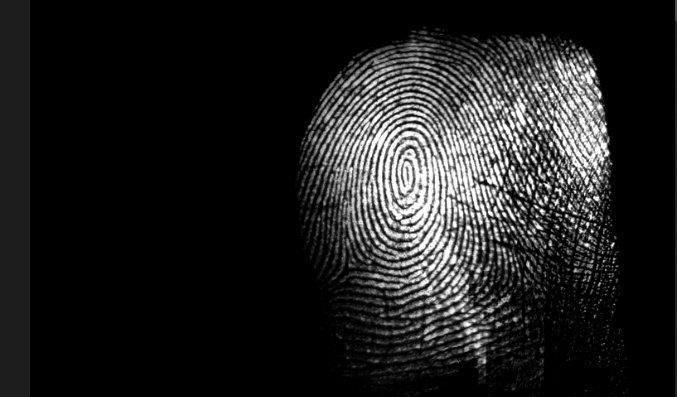deltas: (323, 232, 382, 287), (510, 262, 556, 307)
nucleo: (384, 145, 427, 195)
